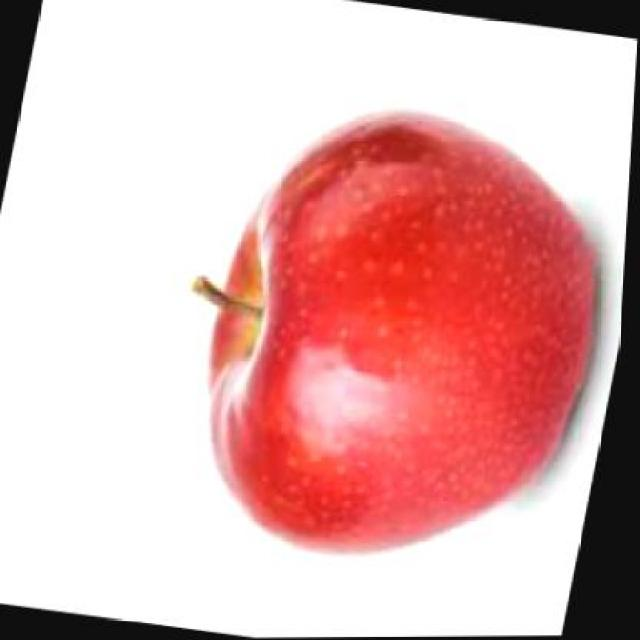Fresh Apple: (193, 115, 600, 552)
